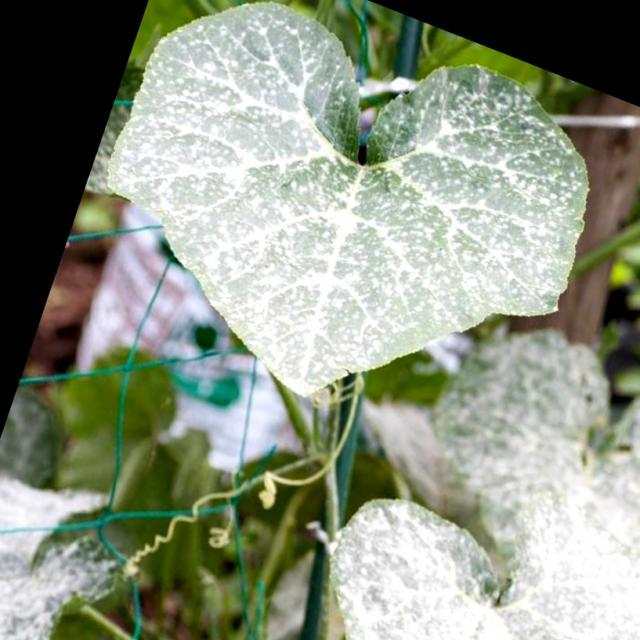Leaf_Mold: (108, 0, 581, 406), (335, 322, 640, 638), (0, 462, 157, 638)
